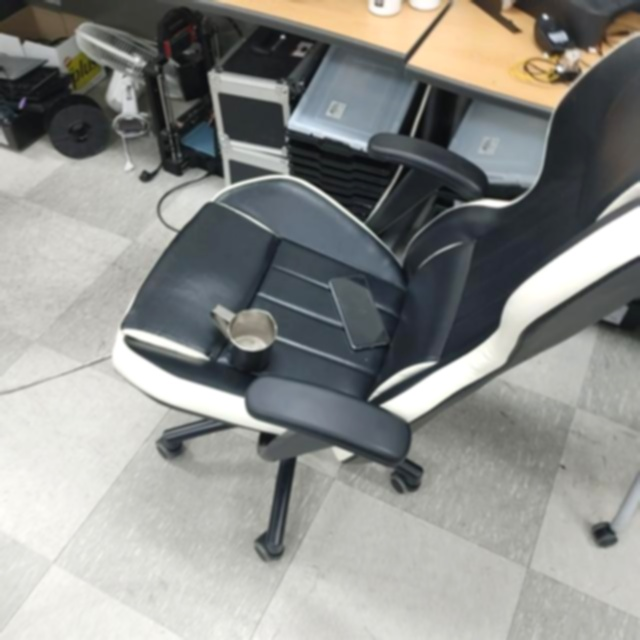cup: (210, 302, 277, 374)
phone: (328, 274, 390, 351)
